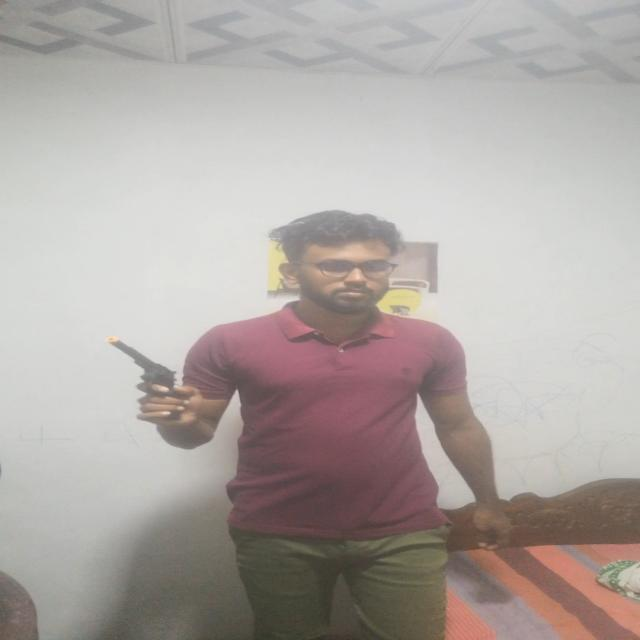Gun_Holder: (105, 338, 199, 411)
Person: (135, 210, 510, 640)
